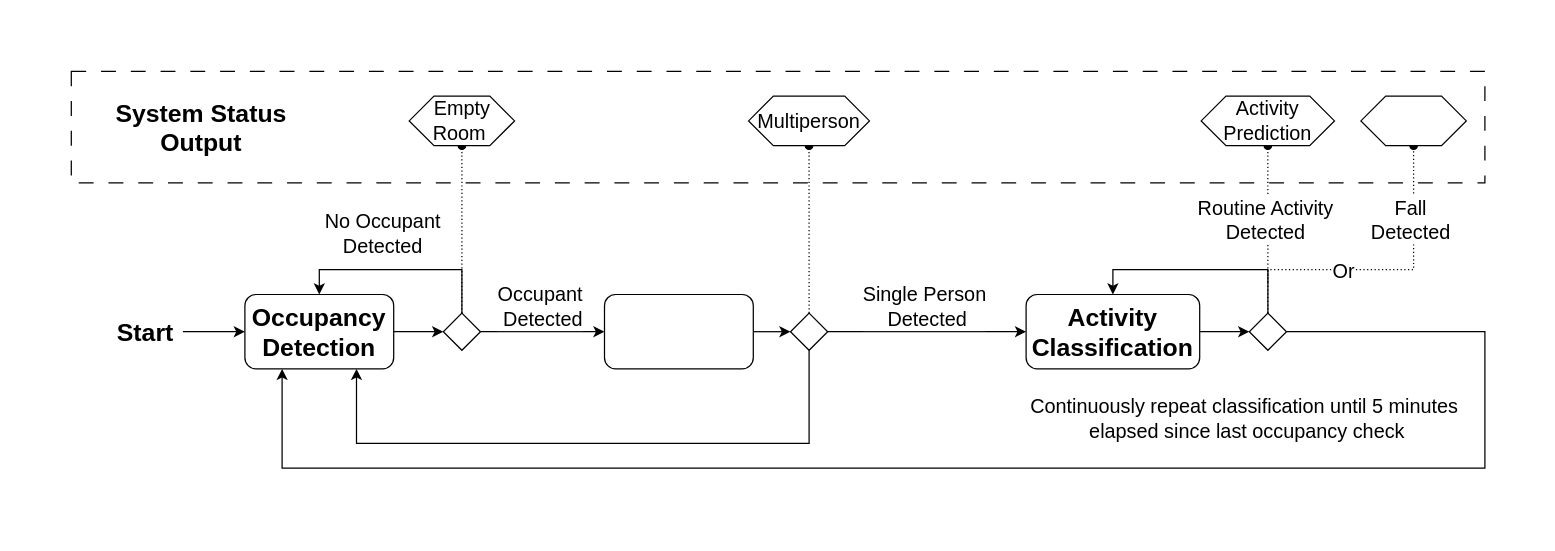
The diagram is 1555 pixels wide and 551 high, and some of its shapes have lost their labels. The shapes that lost their labels are listed below. From the top down, each one's centre as x and y in pixels, then its label:
the point at 1413,120: Fall
the point at 678,331: Multiperson Detection
